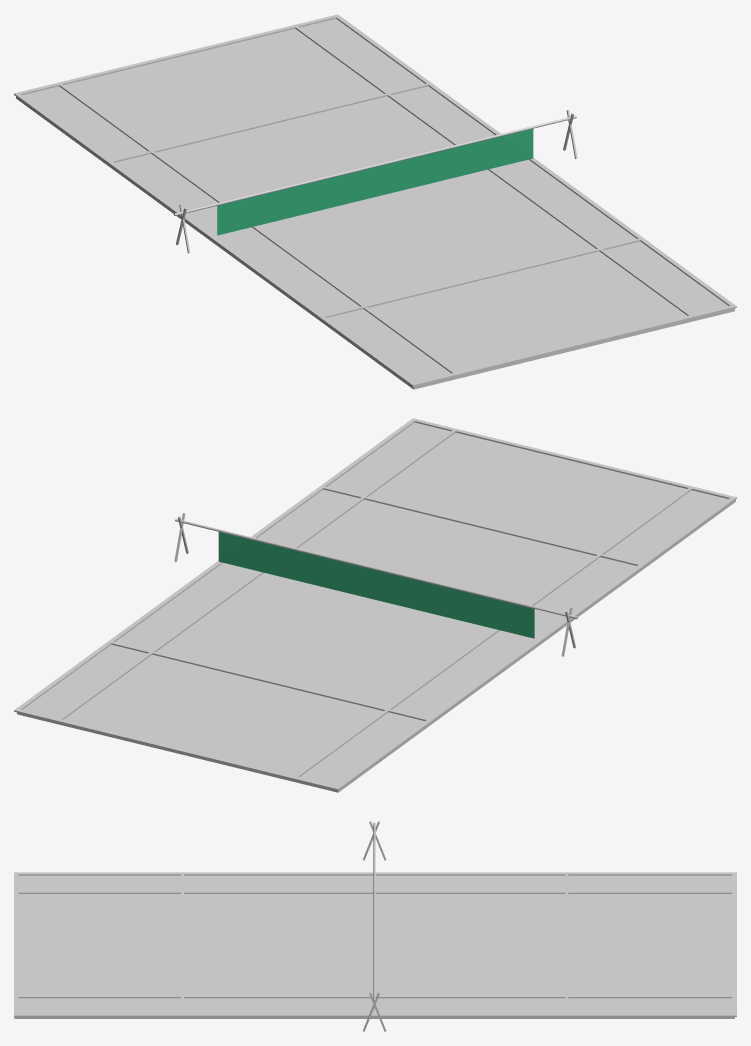
Rendered from sancaulong.FBX.
The picture shows the model from 3 angles, top to bottom: view 1: azimuth 30°, elevation 25°; view 2: azimuth 150°, elevation 25°; view 3: azimuth 270°, elevation 25°; orthographic projection. The views are drawn at different scales.
Parts seen in each view (by area): view 1: Rectangle30, Box15, Rectangle27, Rectangle25, Rectangle26, Cylinder03, Rectangle29, Rectangle28; view 2: Rectangle30, Box15, Rectangle27, Rectangle25, Rectangle26, Cylinder03, Rectangle29, Rectangle28; view 3: Rectangle30, Rectangle27, Rectangle26, Rectangle25, Rectangle29, Cylinder03, Rectangle28.
Boxes of the visible parts, <box> form: Rectangle30: <box>16,19,734,389</box>; Box15: <box>217,129,533,235</box>; Rectangle27: <box>14,14,736,386</box>; Rectangle25: <box>58,83,457,374</box>; Rectangle26: <box>294,25,693,316</box>; Cylinder03: <box>173,115,576,215</box>; Rectangle29: <box>111,83,430,162</box>; Rectangle28: <box>321,238,640,317</box>; Rectangle30: <box>17,422,735,792</box>; Box15: <box>218,532,534,638</box>; Rectangle27: <box>14,418,736,790</box>; Rectangle25: <box>293,486,693,778</box>; Rectangle26: <box>58,429,456,720</box>; Cylinder03: <box>175,519,578,619</box>; Rectangle29: <box>109,641,430,720</box>; Rectangle28: <box>321,486,640,565</box>; Rectangle30: <box>14,875,734,1018</box>; Rectangle27: <box>14,872,736,1016</box>; Rectangle26: <box>15,995,735,998</box>; Rectangle25: <box>15,891,735,893</box>; Rectangle29: <box>565,873,568,1014</box>; Cylinder03: <box>373,822,375,1002</box>; Rectangle28: <box>181,873,183,1014</box>.
Size of the model in its own units: 14 by 1.52 by 24.08.
